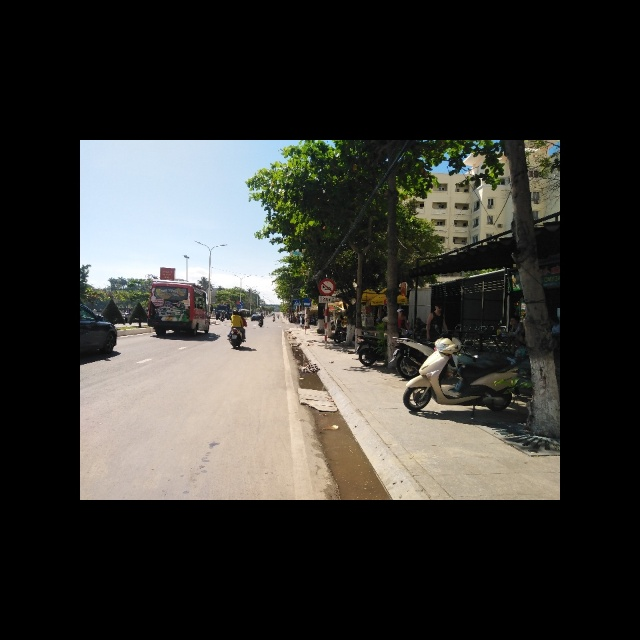Bệnh viện: (303, 298, 312, 307)
Cấm bấm còi: (319, 279, 335, 297)
Đường dành cho người đi bộ: (294, 299, 300, 306)
